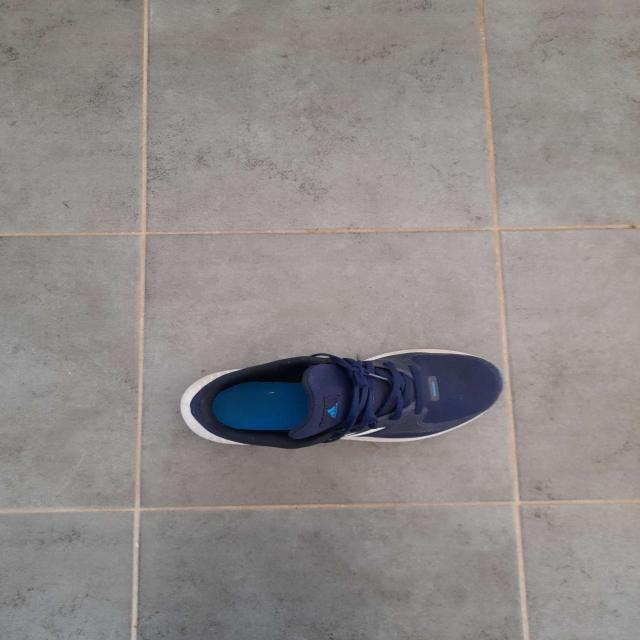shoes: (180, 347, 503, 449)
